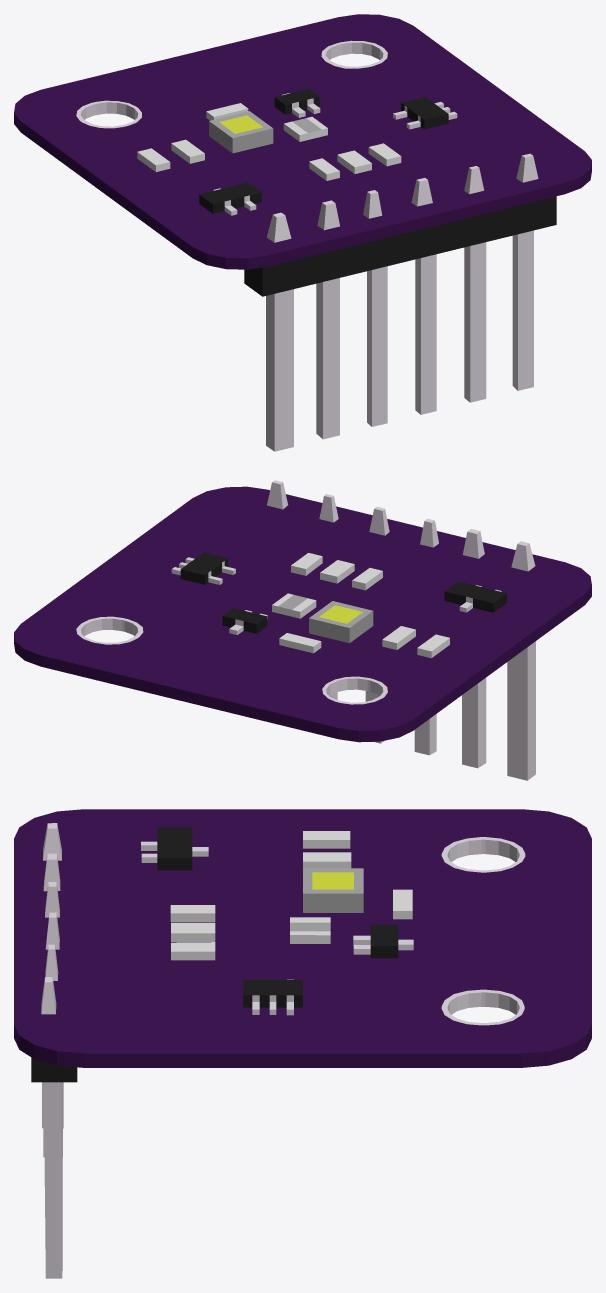
File: rgb_sensor.fbx
3 renders of one model, top to bottom at view 1: azimuth 30°, elevation 25°; view 2: azimuth 150°, elevation 25°; view 3: azimuth 270°, elevation 25°, orthographic. The views are drawn at different scales.
Visible parts, largest first — view 1: Cube; view 2: Cube; view 3: Cube.
Boxes of the visible parts, x1=… form: Cube: x1=14, y1=14, x2=591, y2=451; Cube: x1=14, y1=480, x2=591, y2=780; Cube: x1=14, y1=809, x2=591, y2=1278.
Size of the model in its own units: 84.6 by 47.76 by 84.6.
